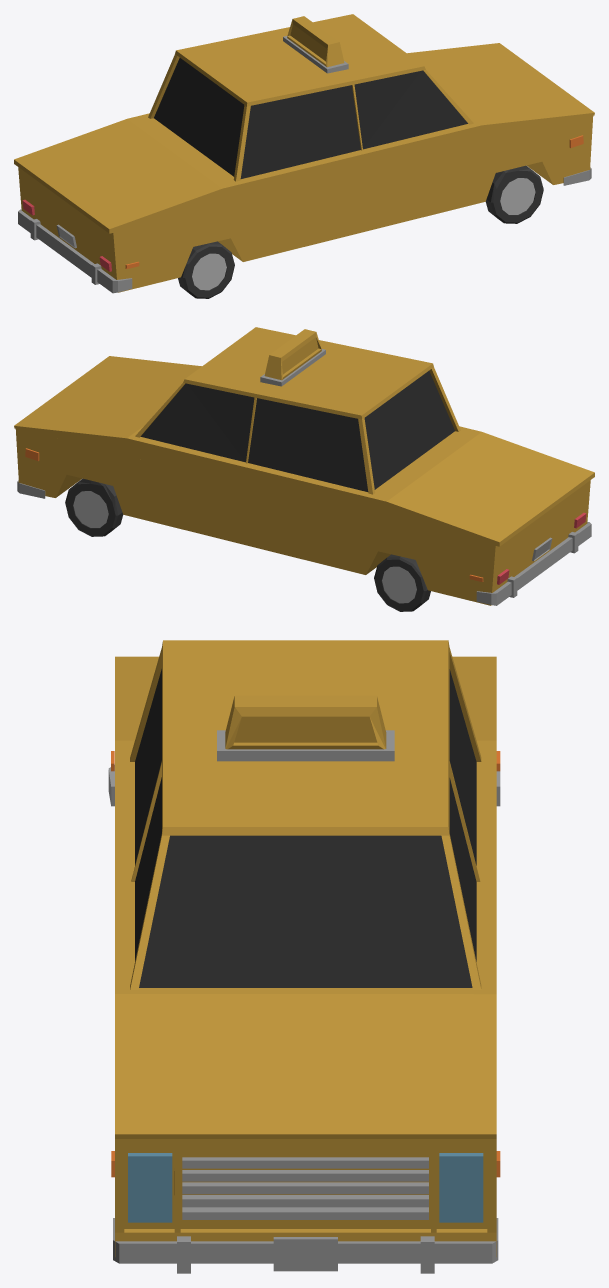
File: Car_taxi.fbx
The picture shows the model from 3 angles, top to bottom: view 1: azimuth 30°, elevation 25°; view 2: azimuth 150°, elevation 25°; view 3: azimuth 270°, elevation 25°; orthographic projection. The views are drawn at different scales.
Parts seen in each view (by area): view 1: Car_taxi; view 2: Car_taxi; view 3: Car_taxi.
Boxes of the visible parts, x1=… form: Car_taxi: x1=14, y1=14, x2=594, y2=298; Car_taxi: x1=14, y1=327, x2=594, y2=611; Car_taxi: x1=108, y1=640, x2=500, y2=1273.
Bounding box in the file's own units: 6.32 × 2.46 × 2.2.
